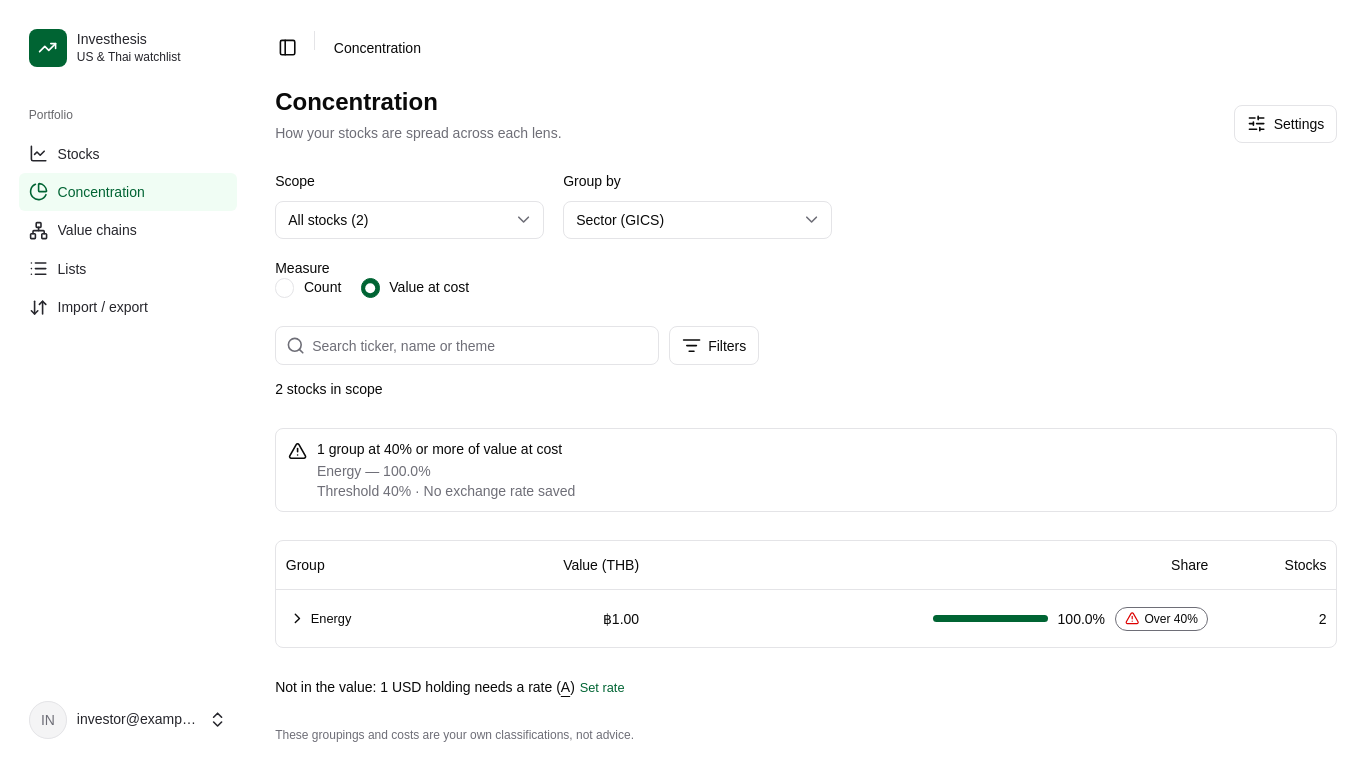
Scenario: concentration settings dialog › TC-C-428: Set rate focuses the rate field; with no rate the help and a disabled Clear rate
Check: the heading "Concentration" is shown, box [275,88,438,115]
Click the button "Set rate" at (602, 688), box [579,678,626,699]
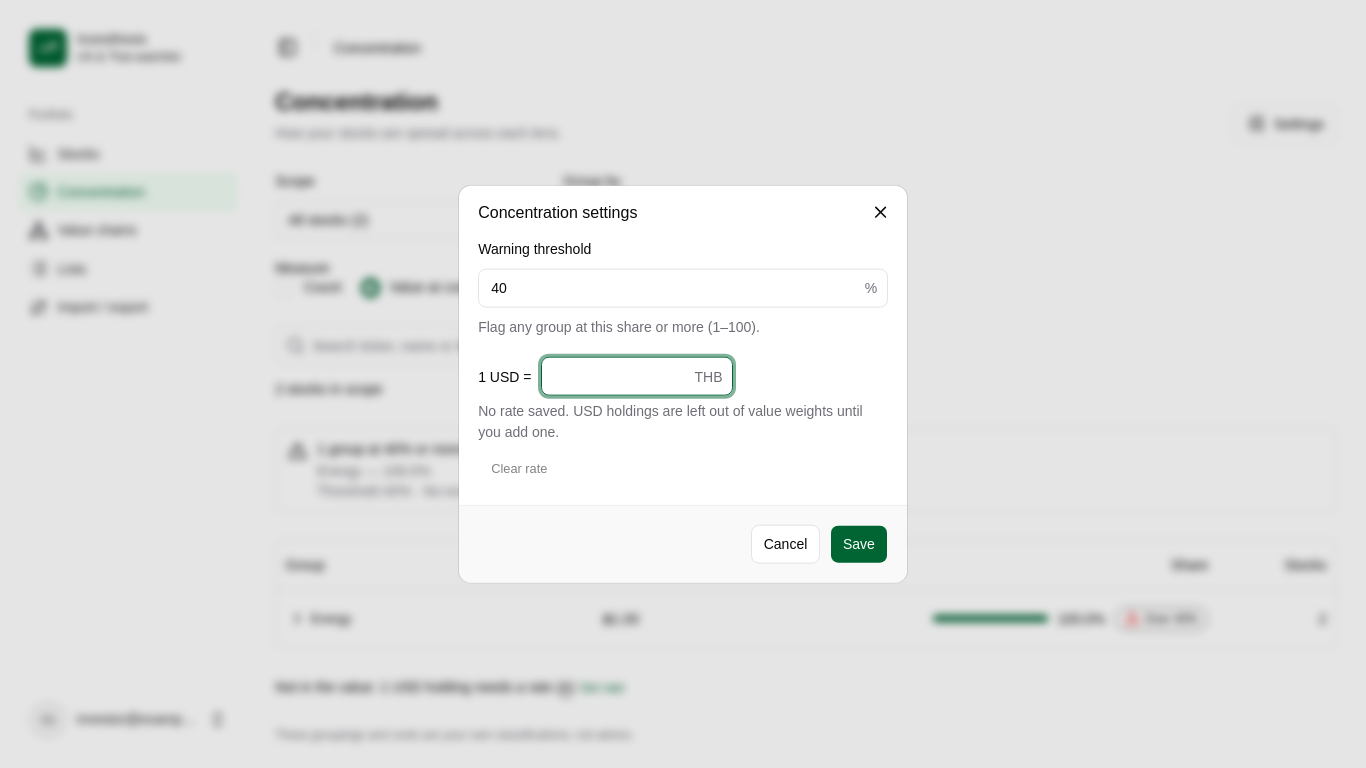
Check: the field named "Exchange rate, THB per 1 USD" is empty, box [542,357,694,395]
Check: the text "No rate saved. USD holdings are left out of value weights until you add one." is shown, box [478,400,888,442]
Check: the button "Clear rate" is disabled, box [478,452,560,485]
Press Escape
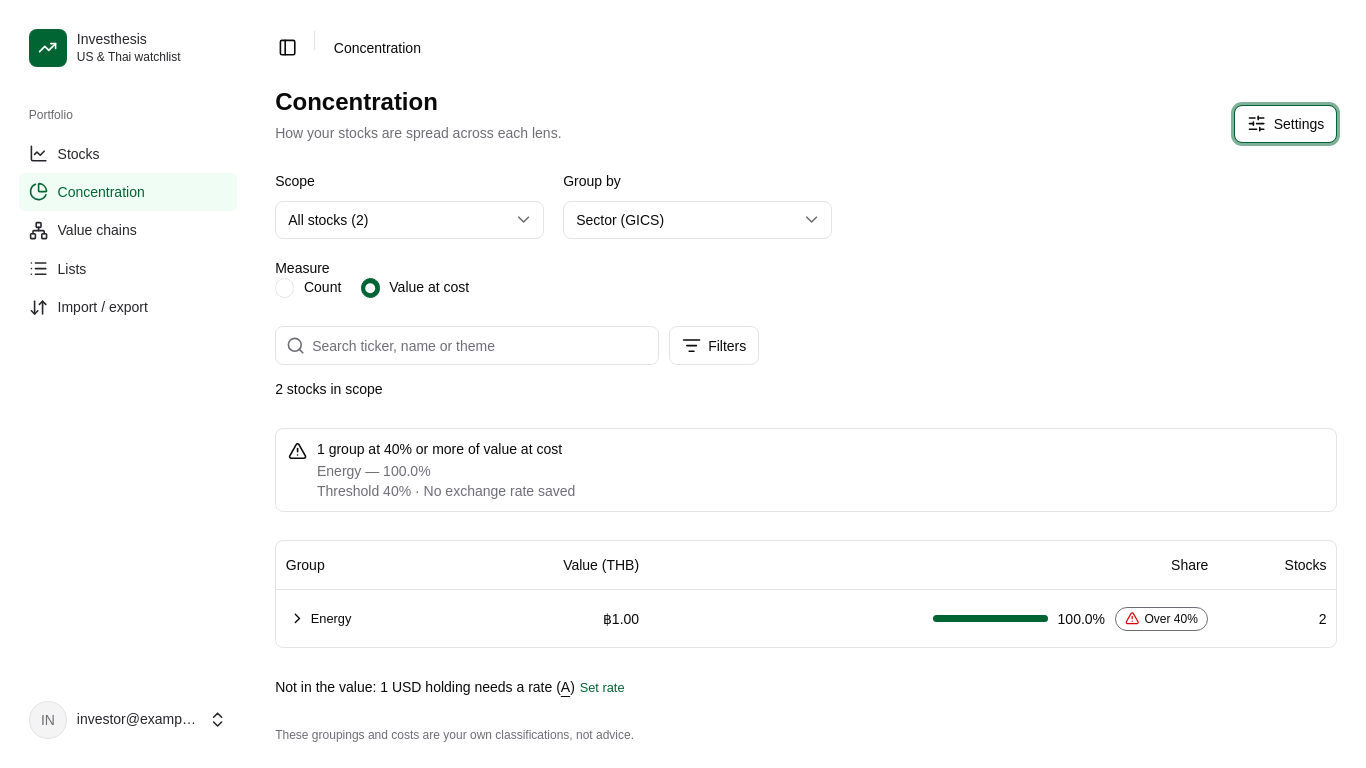
Check: the dialog is gone
